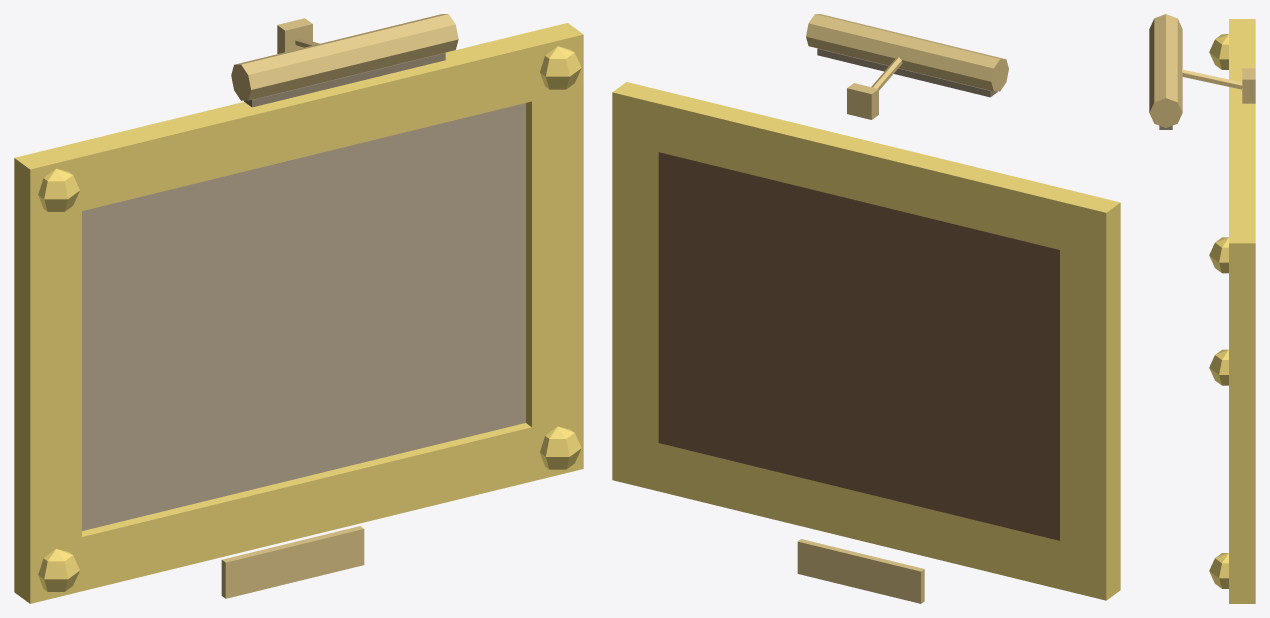
The model's file is HJ_MarcoFoto.fbx.
3 renders of one model, left to right at view 1: azimuth 30°, elevation 25°; view 2: azimuth 150°, elevation 25°; view 3: azimuth 270°, elevation 25°, orthographic. The views are drawn at different scales.
Visible parts, largest first — view 1: HJ_MarcoFoto; view 2: HJ_MarcoFoto; view 3: HJ_MarcoFoto.
Boxes of the visible parts, bbox=[...] form: HJ_MarcoFoto: bbox=[14, 14, 583, 603]; HJ_MarcoFoto: bbox=[612, 14, 1120, 603]; HJ_MarcoFoto: bbox=[1149, 14, 1255, 603].
Size of the model in its own units: 1.6 by 1.6 by 0.32.
